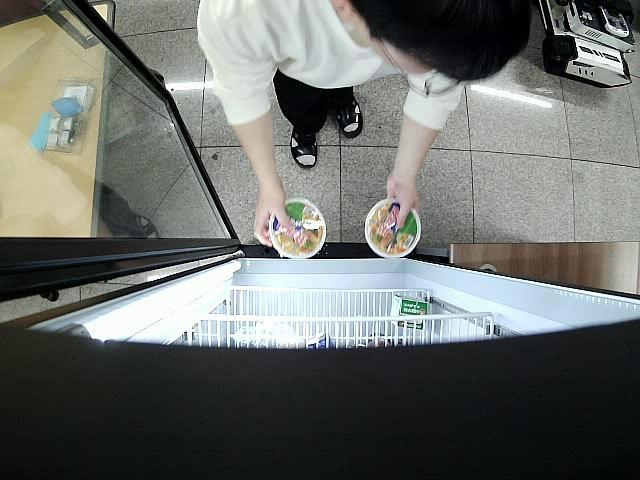09_yukGaeJang: (364, 200, 423, 259), (270, 199, 326, 260)
